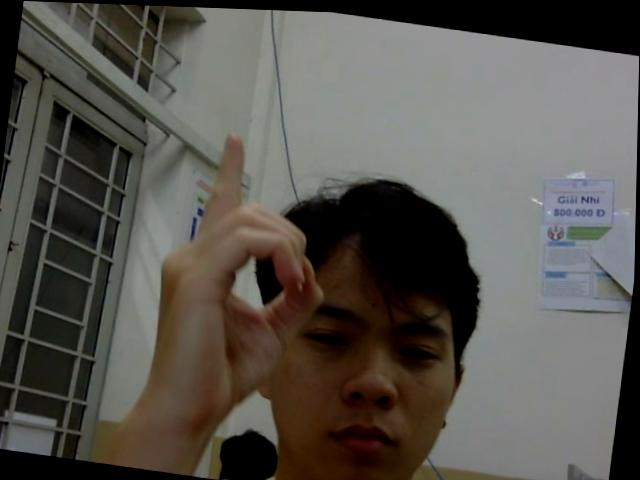D: (143, 120, 340, 429)
